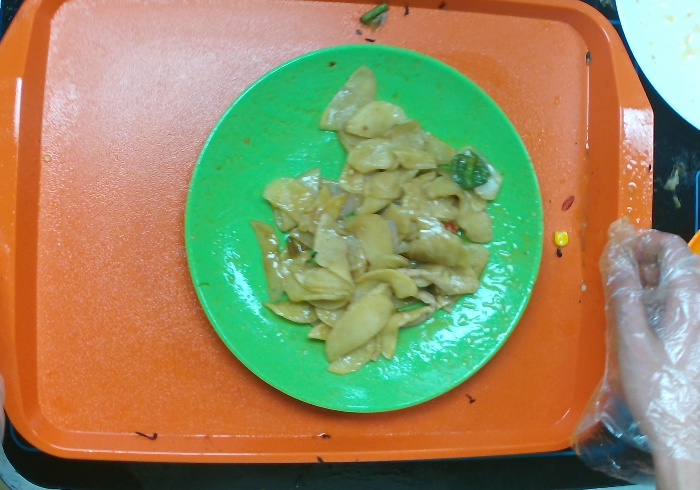HZYJPL-Lv_Se_Yuan_Pan: (174, 40, 554, 418)
